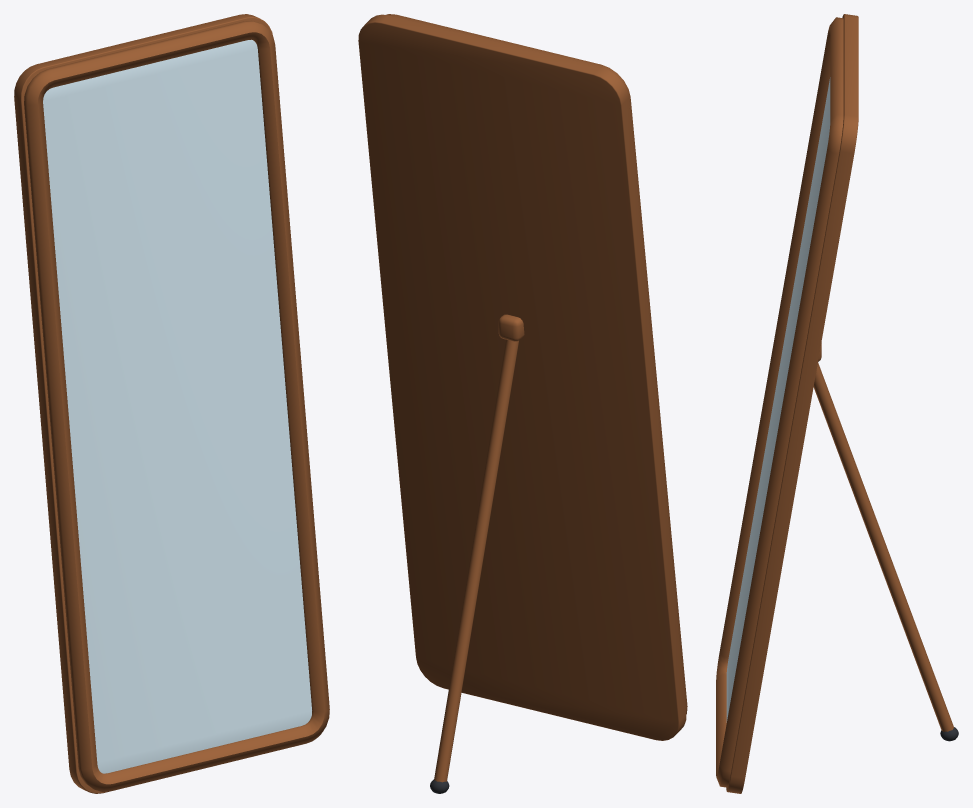
The model's file is espelho_chao_madeira.glb.
3 views of the same model, side by side, from view 1: azimuth 30°, elevation 25°; view 2: azimuth 150°, elevation 25°; view 3: azimuth 270°, elevation 25° (orthographic). The views are drawn at different scales.
Parts seen in each view (by area): view 1: espelho_chao_madeira; view 2: espelho_chao_madeira; view 3: espelho_chao_madeira.
Boxes of the visible parts, x1,y1,x2,y2 form: espelho_chao_madeira: (14,14,329,793); espelho_chao_madeira: (358,14,687,793); espelho_chao_madeira: (716,14,958,793).
Bounding box in the file's own units: 0.62 × 1.6 × 0.5218.
Materials: 2 (1 with a texture image).
